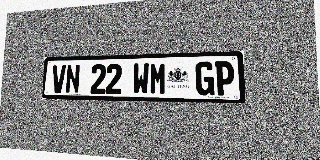2: (106, 63, 122, 94), (90, 64, 106, 94)
G: (196, 61, 214, 95)
M: (149, 62, 167, 95)
N: (65, 64, 80, 94)
P: (215, 61, 235, 96)
V: (51, 65, 66, 93)
W: (133, 63, 149, 95)
